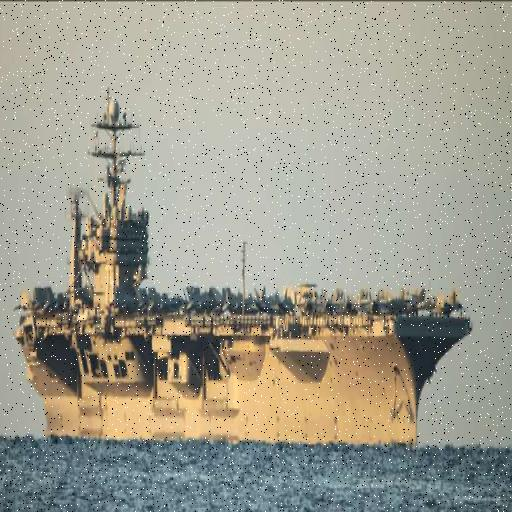Portanaves: (14, 68, 478, 448)
